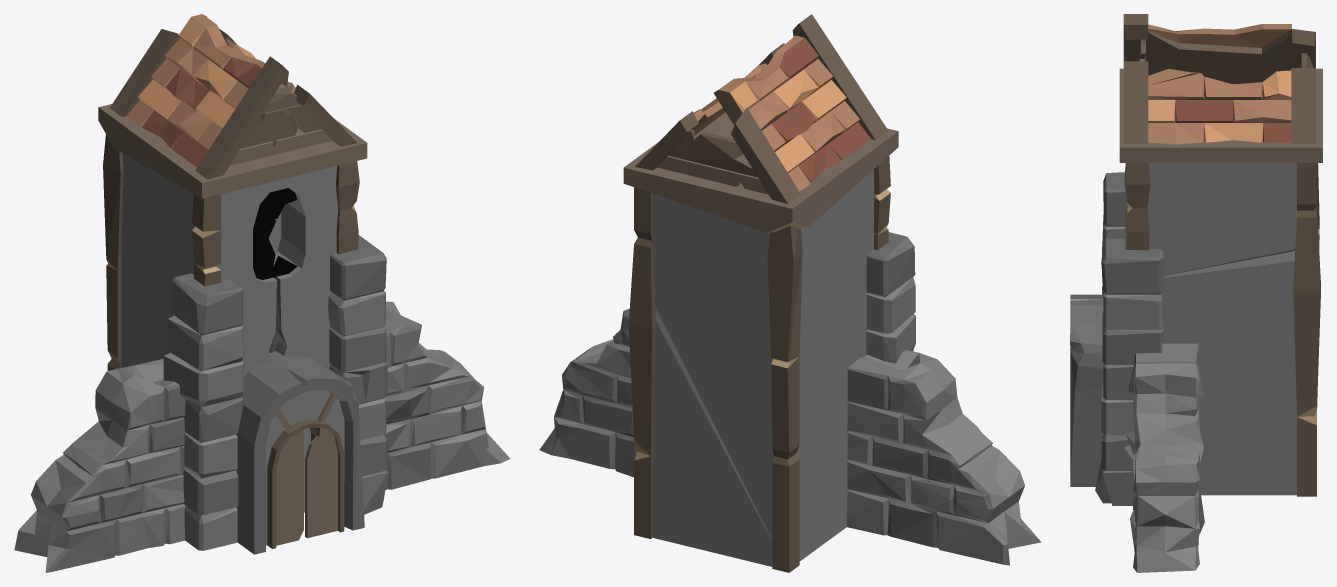
File: _ruin_9.glb
3 views of the same model, side by side, from view 1: azimuth 30°, elevation 25°; view 2: azimuth 150°, elevation 25°; view 3: azimuth 270°, elevation 25° (orthographic). The views are drawn at different scales.
Visible parts, largest first — view 1: ruin_9; view 2: ruin_9; view 3: ruin_9.
Boxes of the visible parts, bbox=[...] form: ruin_9: bbox=[14, 14, 510, 572]; ruin_9: bbox=[539, 14, 1041, 572]; ruin_9: bbox=[1070, 14, 1322, 572].
Bounding box in the file's own units: 9.54 × 8.92 × 4.58.
Materials: 1 (1 with a texture image).
